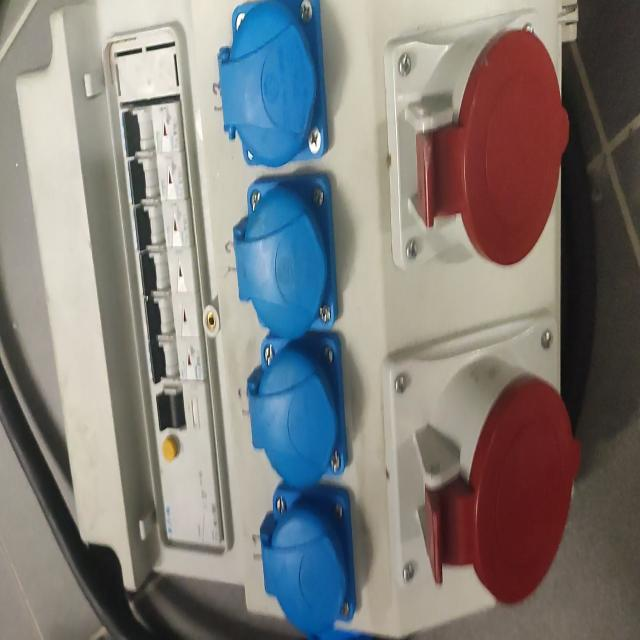400v socket: (380, 305, 579, 605), (382, 11, 570, 270)
house plug covered: (217, 0, 329, 164), (232, 168, 335, 337), (247, 333, 348, 486), (261, 483, 357, 633)
